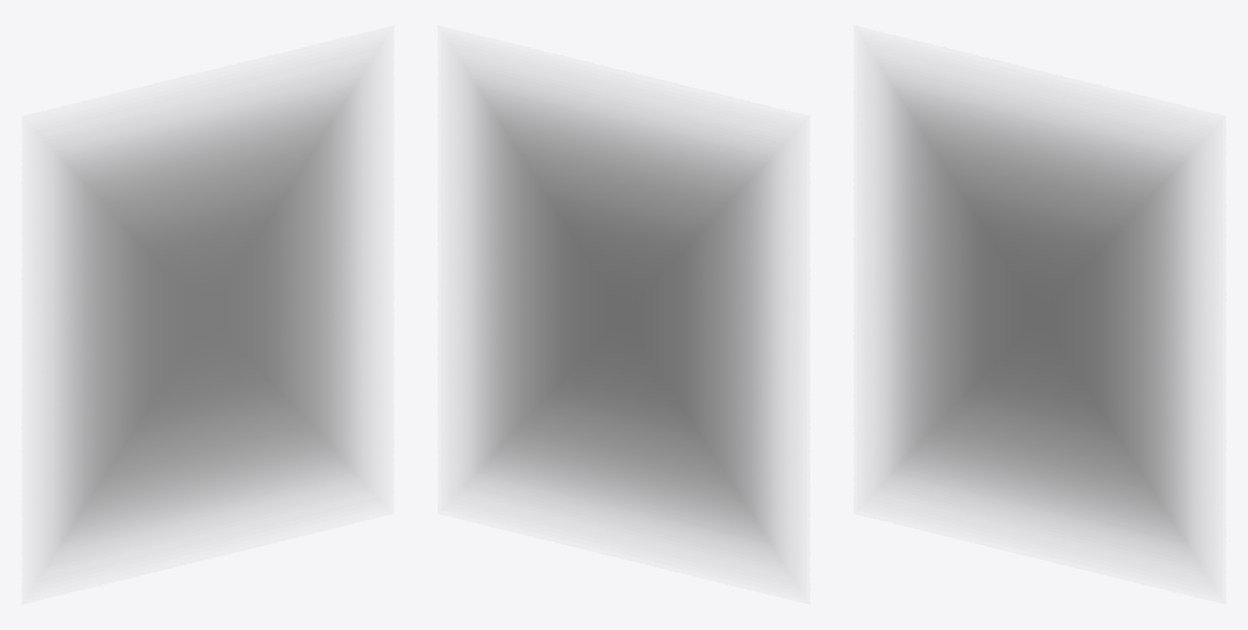
The model's file is current_nft.glb.
3 views of the same model, side by side, from view 1: azimuth 30°, elevation 25°; view 2: azimuth 150°, elevation 25°; view 3: azimuth 330°, elevation 25° (orthographic).
Parts seen in each view (by area): view 1: Glow; view 2: Glow; view 3: Glow.
Part boxes in pixels (<box>): Glow: <box>35,46,380,583</box>; Glow: <box>451,46,796,583</box>; Glow: <box>867,46,1212,583</box>.
Bounding box in the file's own units: 5.49 × 6.87 × 0.01.
Materials: 1 (1 with a texture image).
